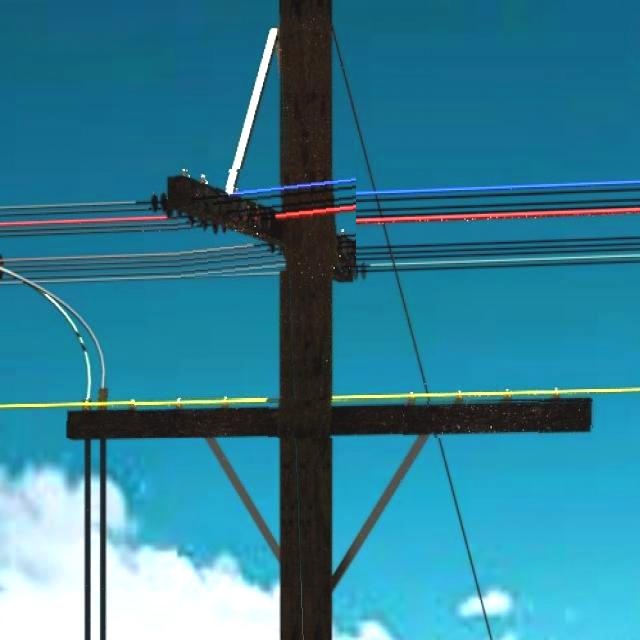crossarm: (66, 401, 593, 438), (168, 169, 356, 270)
pole: (280, 0, 330, 639)
